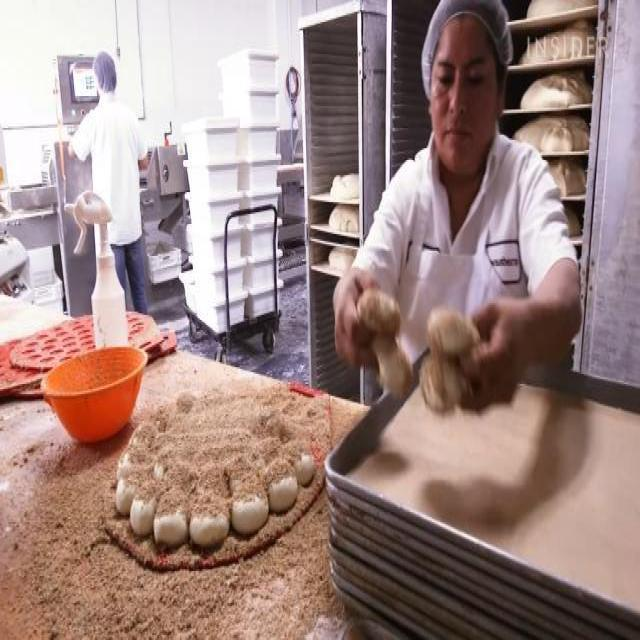bare_hand: (445, 286, 535, 419), (328, 263, 392, 384)
